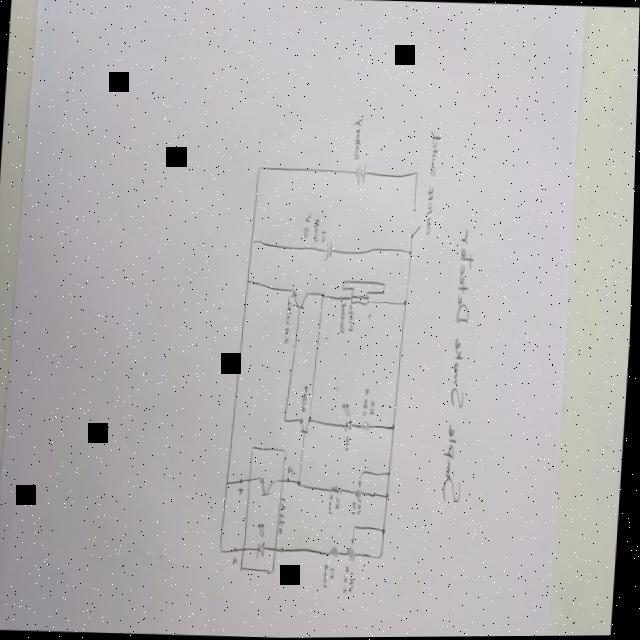capacitor: (324, 241, 335, 263)
diode: (343, 403, 357, 434)
junction: (222, 542, 228, 554), (381, 550, 387, 560), (248, 276, 253, 286), (393, 422, 398, 431), (409, 248, 414, 256), (388, 491, 393, 499), (300, 477, 304, 487), (251, 237, 256, 245), (415, 169, 420, 177), (323, 292, 328, 300), (385, 526, 389, 535), (258, 164, 263, 171), (405, 299, 409, 307), (390, 470, 394, 477), (363, 469, 367, 476), (228, 479, 232, 486), (286, 417, 290, 423), (356, 525, 359, 530)
resistor: (349, 535, 360, 563), (331, 545, 344, 559), (332, 483, 347, 495), (357, 478, 366, 498), (364, 420, 373, 432)
source: (355, 161, 369, 187)
switch: (412, 204, 424, 240)
text: (443, 228, 480, 505), (424, 130, 443, 236), (352, 118, 364, 160), (285, 295, 294, 344), (282, 497, 289, 535), (304, 212, 313, 239), (303, 383, 311, 413), (364, 387, 372, 417), (349, 303, 357, 333), (341, 301, 348, 333), (326, 563, 333, 589), (347, 564, 353, 594), (314, 218, 321, 243), (330, 493, 337, 515), (352, 570, 358, 593), (371, 400, 379, 416), (332, 565, 339, 579), (347, 435, 353, 451), (360, 496, 365, 515), (239, 486, 248, 496), (337, 495, 343, 509), (322, 230, 328, 243), (290, 464, 296, 476), (235, 556, 242, 566), (354, 501, 359, 515), (283, 564, 288, 569)
transistor: (291, 285, 313, 312), (300, 413, 316, 435)
